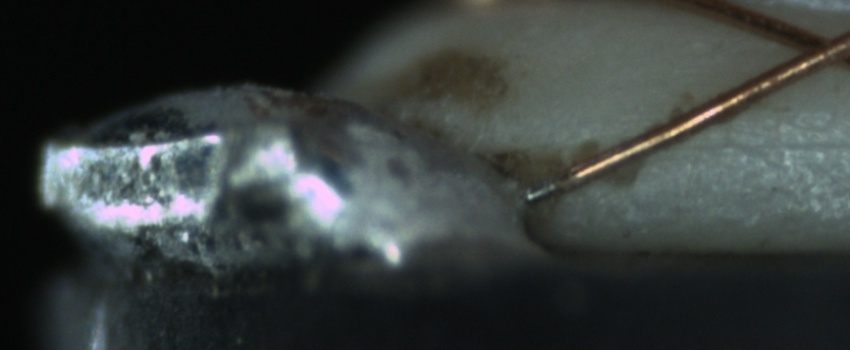CL: (774, 17, 850, 77)
DL: (671, 112, 850, 174)
TS: (523, 172, 566, 206)
